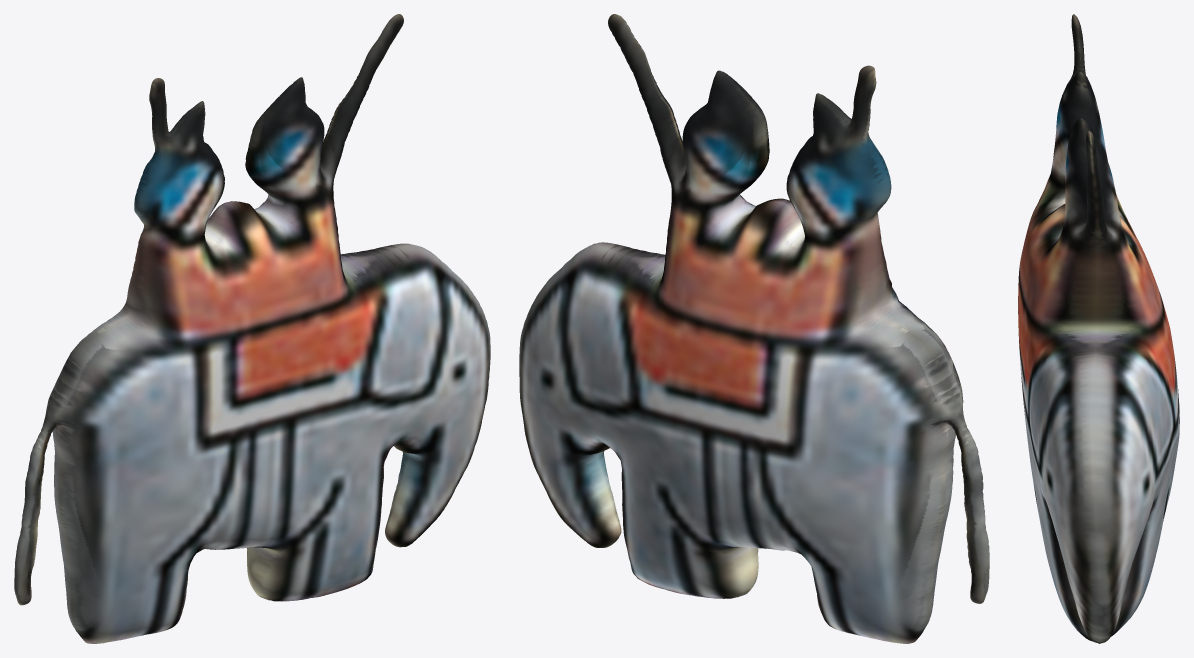
File: newElephant.fbx
3 views of the same model, side by side, from view 1: azimuth 30°, elevation 25°; view 2: azimuth 150°, elevation 25°; view 3: azimuth 270°, elevation 25° (orthographic). The views are drawn at different scales.
Parts seen in each view (by area): view 1: mm_frame; view 2: mm_frame; view 3: mm_frame.
Part boxes in pixels (x1=…): mm_frame: x1=14, y1=14, x2=490, y2=643; mm_frame: x1=519, y1=14, x2=989, y2=643; mm_frame: x1=1018, y1=14, x2=1179, y2=643.
Size of the model in its own units: 2.67 by 3.04 by 0.8426.
1 material, 1 textured.
